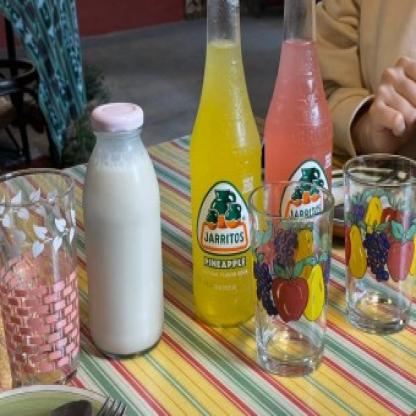Can: (186, 0, 267, 327), (76, 97, 172, 359), (266, 2, 334, 188)
